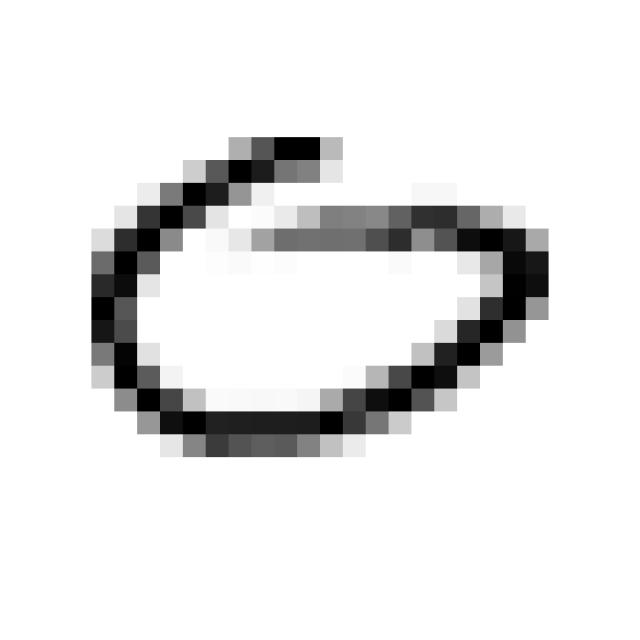5 -five-: (69, 112, 562, 478)
